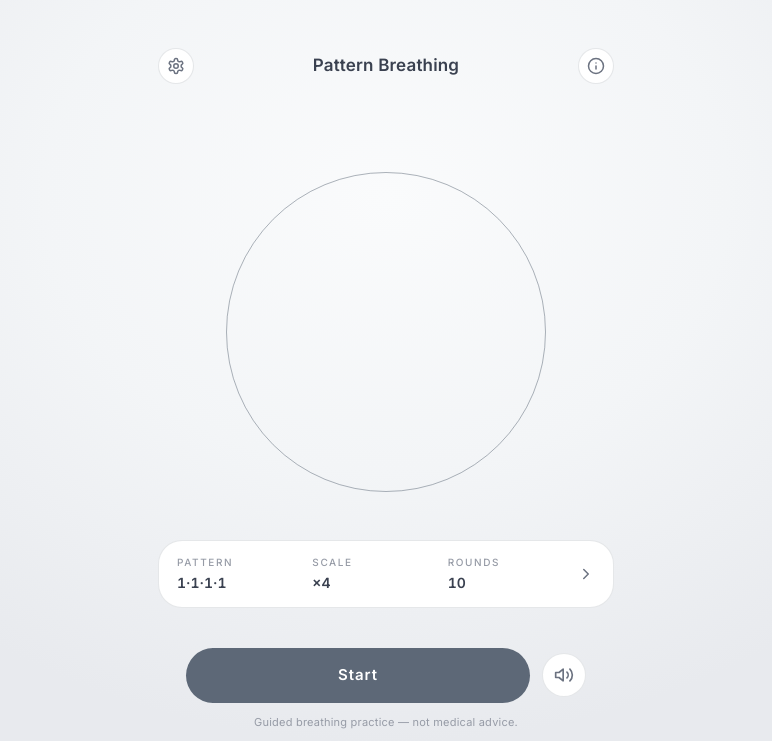
Test: App locale switching (Phase 19) › Settings is unreachable in-session via the gear anchor being disabled
Open the Settings page and verify LanguagePicker buttons are ENABLED
Click the button named "Settings" at point(176, 66), box [158, 48, 194, 84]
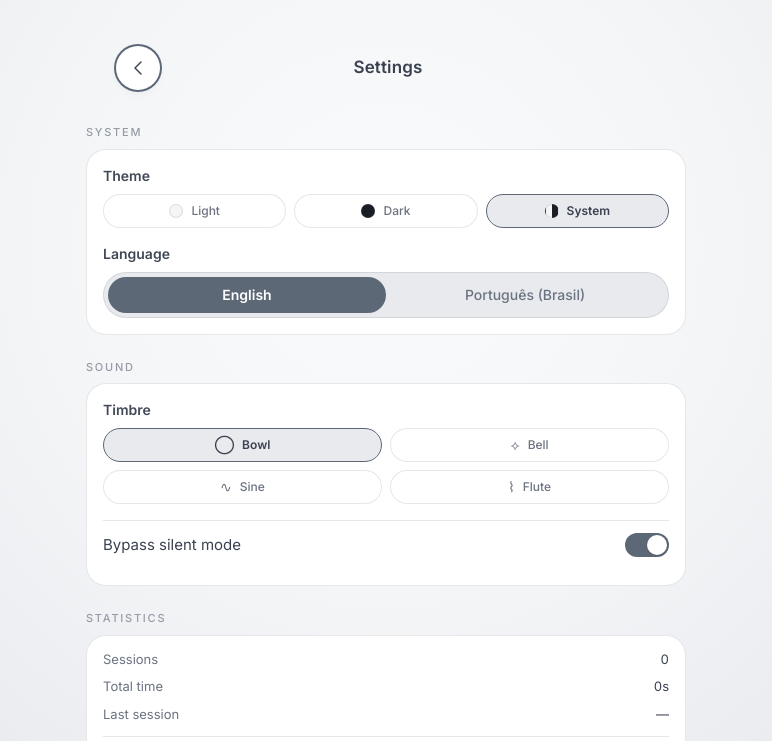
Result: the radio button labelled "English" is enabled at [108, 276, 386, 312]
Result: the radio button labelled "Português (Brasil)" is enabled at [386, 276, 664, 312]
Navigate back to practice
Click the button named "Close" at point(138, 68), box [118, 48, 158, 88]
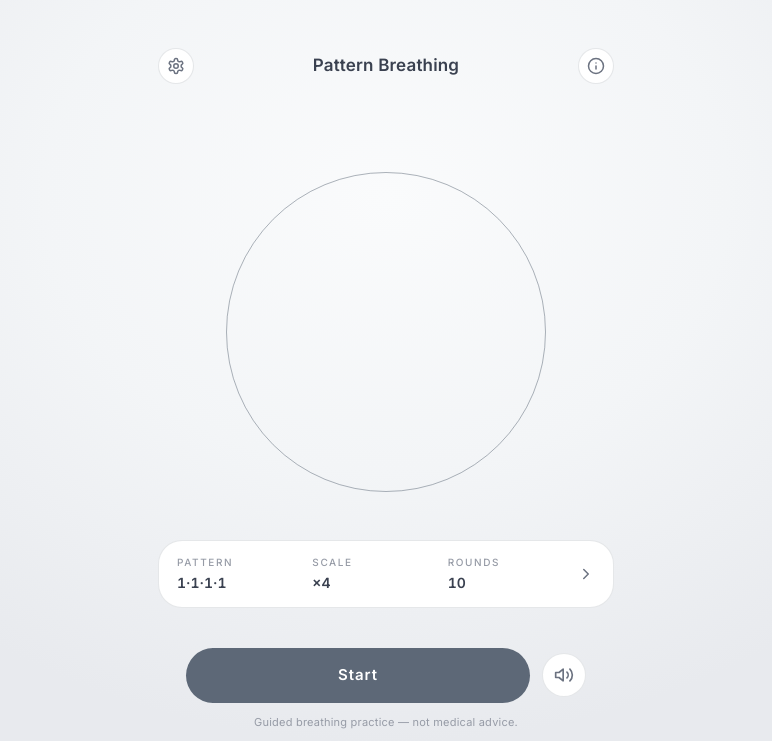
Click the button "Start" at point(358, 675), box [186, 648, 530, 702]
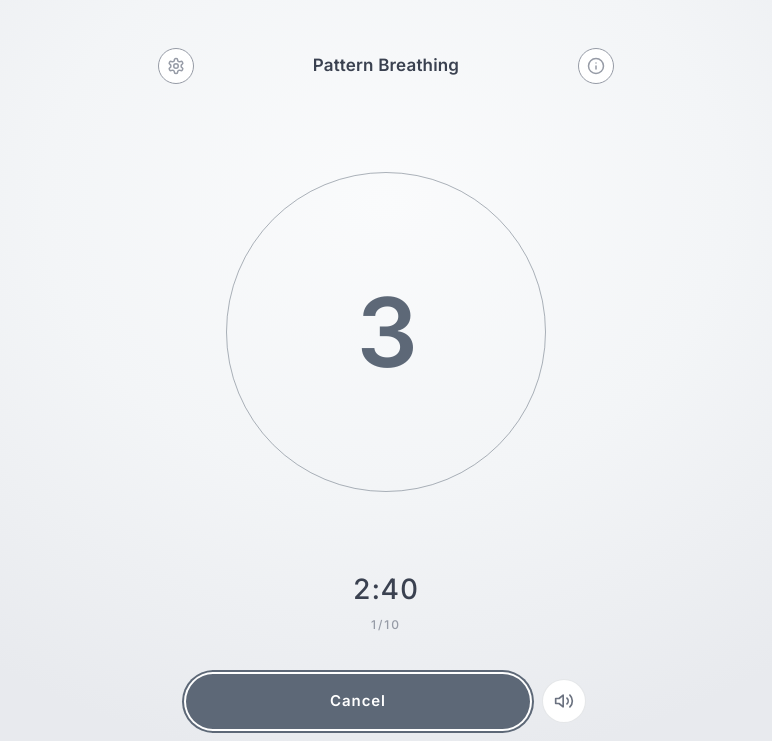
Result: the button named "Settings (unavailable during session)" is shown at [158, 48, 194, 84]
Result: the button "Settings" is gone
